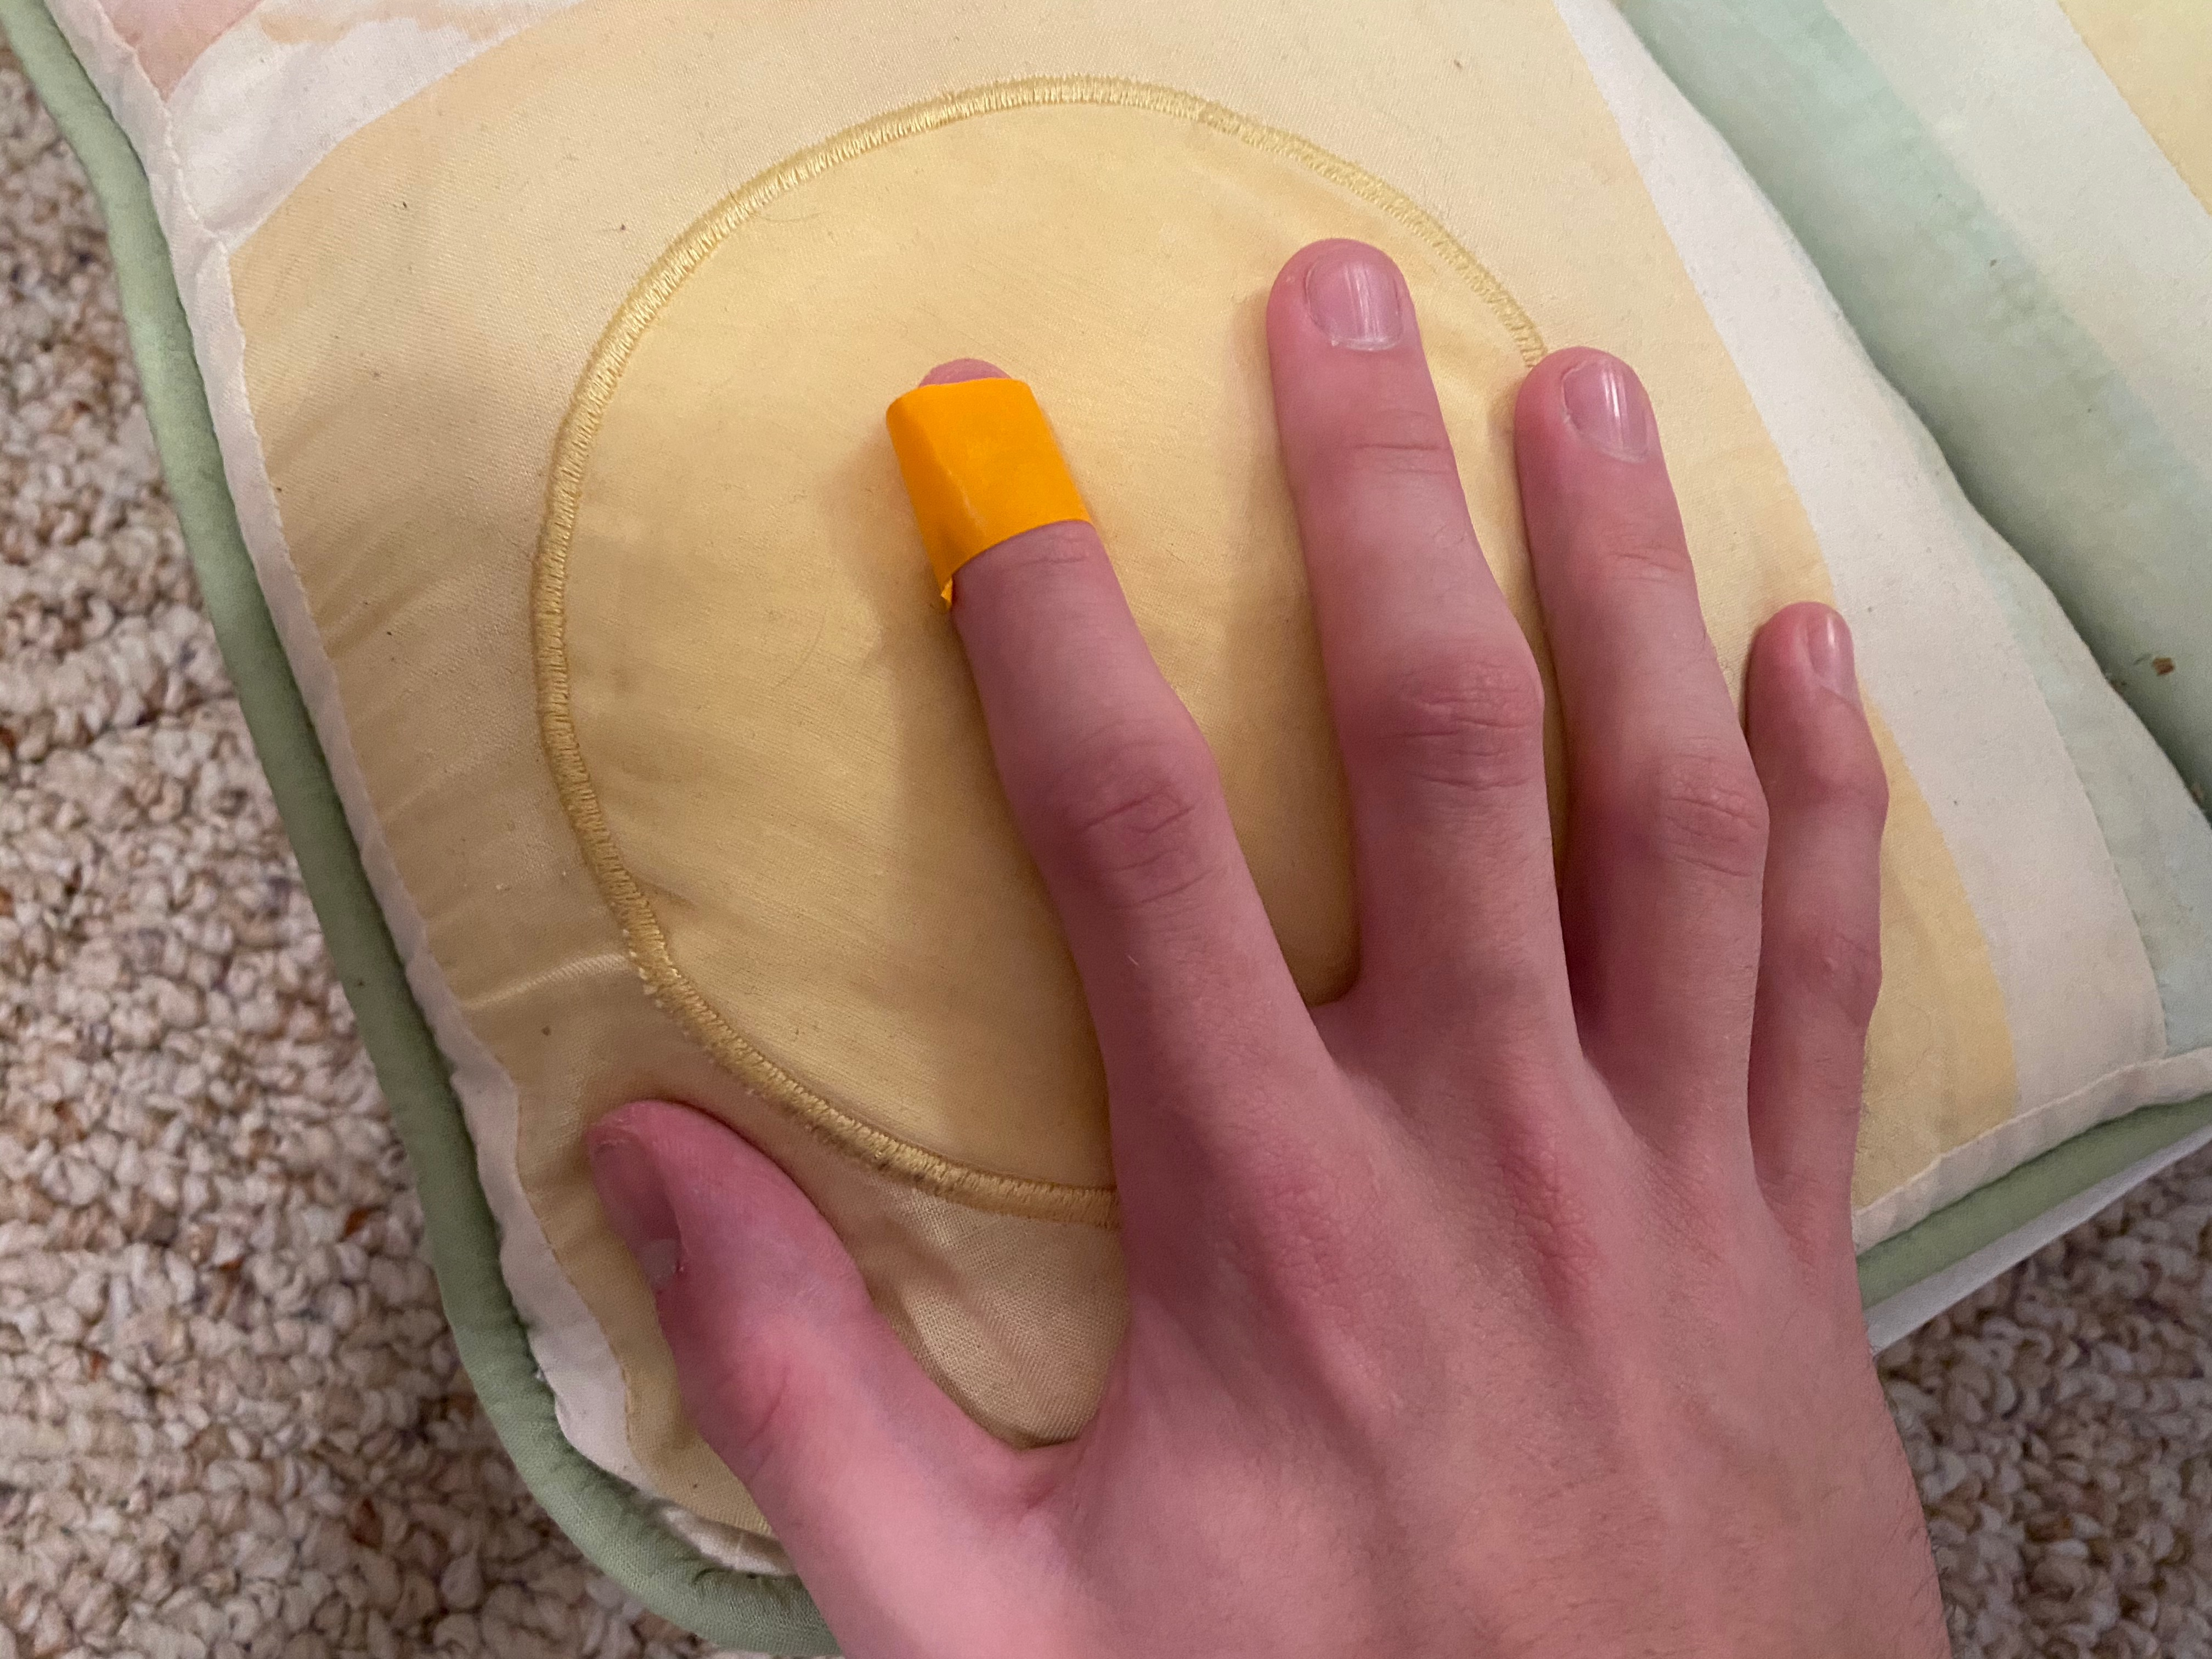fingertip: (853, 349, 1167, 572)
